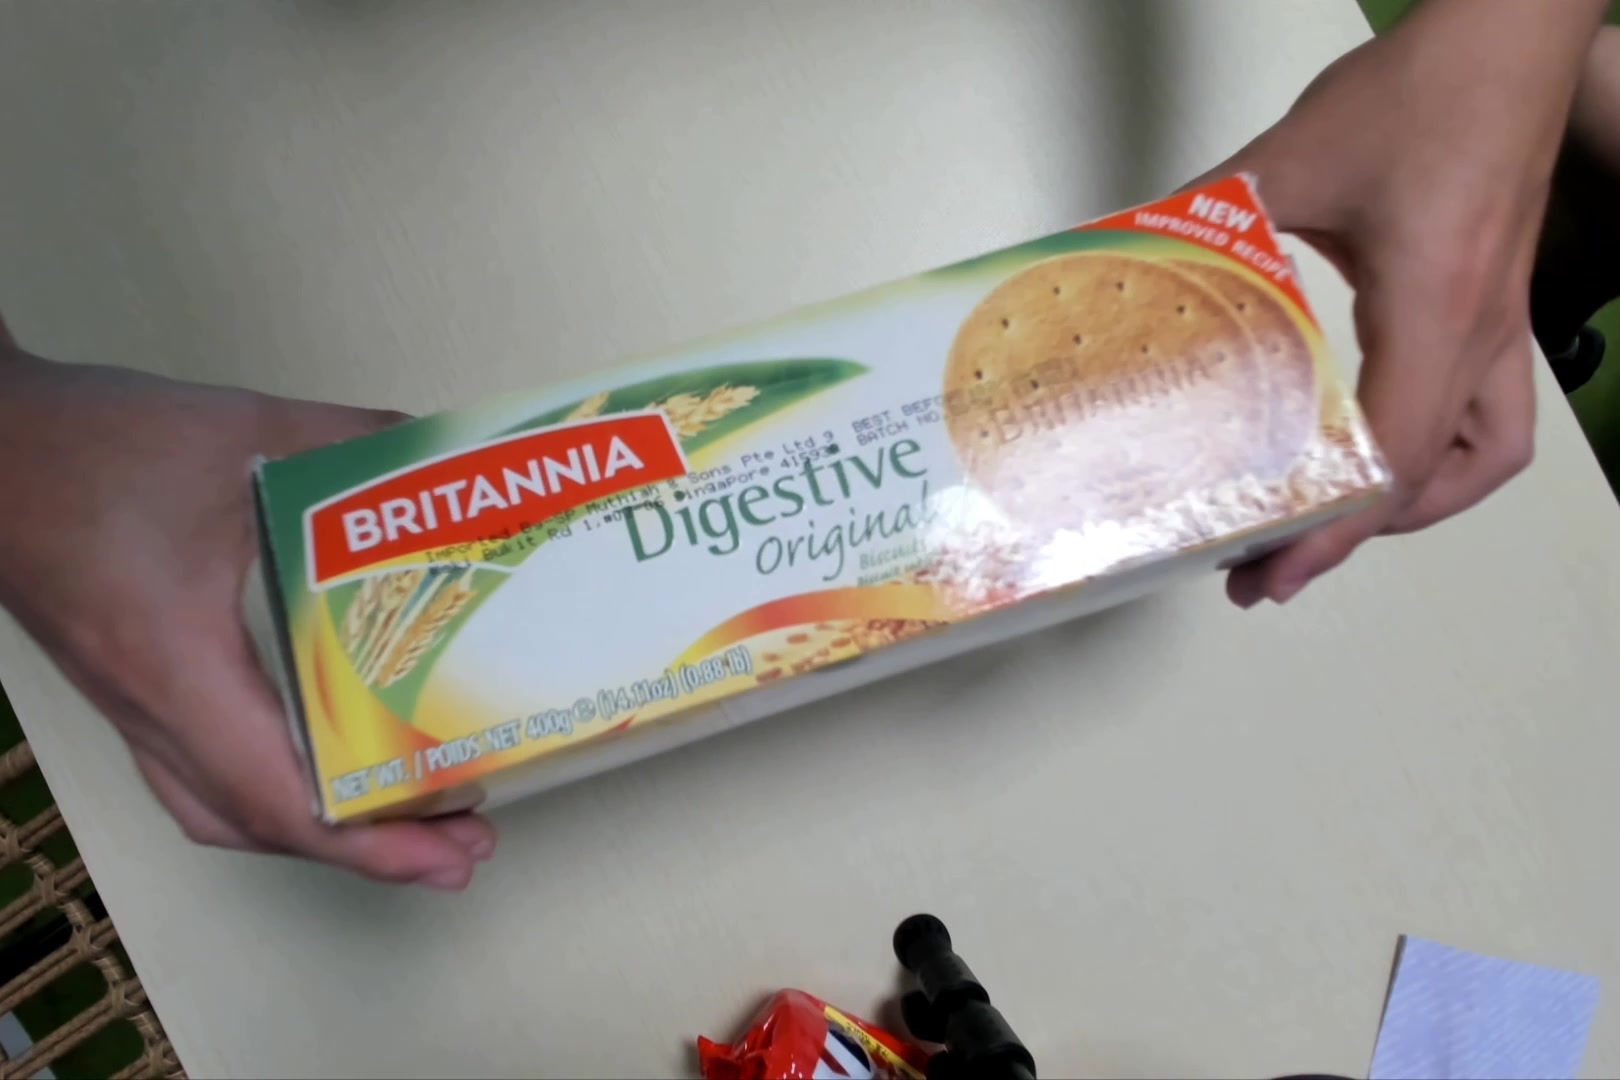BiscuitsCrackersCookies_400-499g_NonHalal_NonHealthy: (250, 178, 1386, 846)
